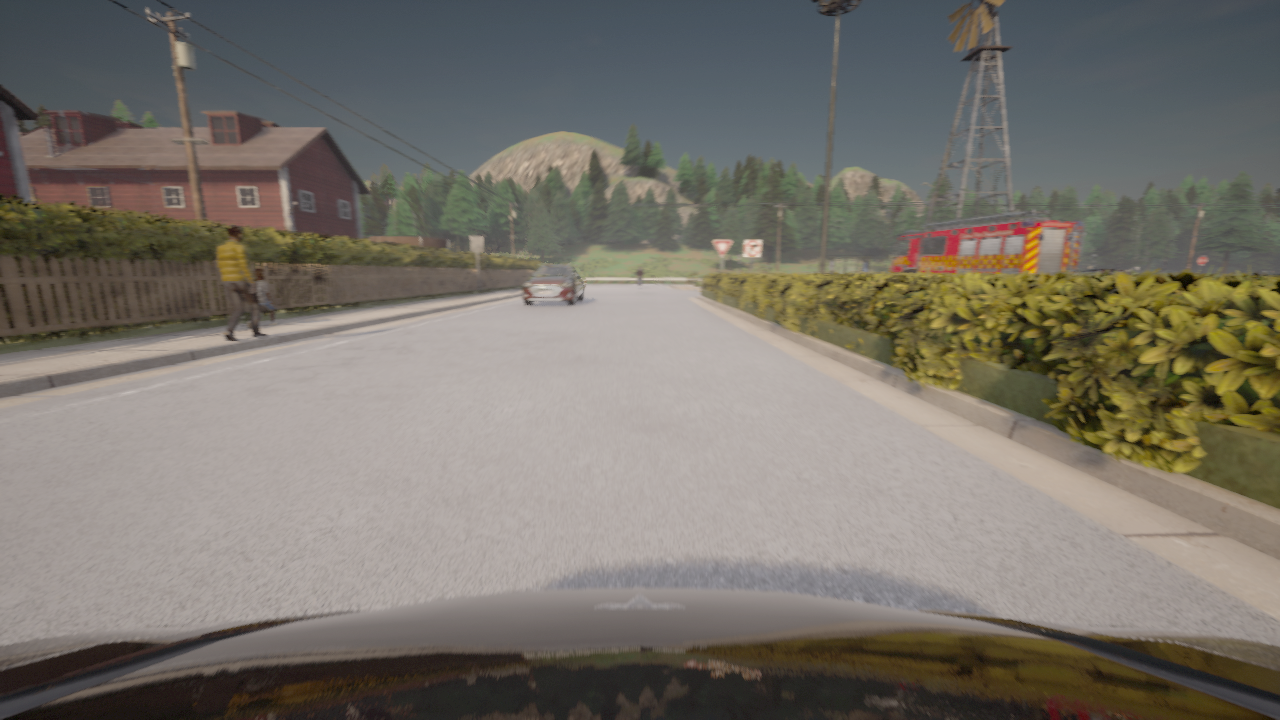cyclist: (0, 588, 1279, 719), (889, 209, 1085, 275), (522, 263, 584, 305), (1078, 268, 1131, 275), (639, 278, 641, 286)
pedestrian: (217, 225, 268, 341), (247, 271, 279, 328)
